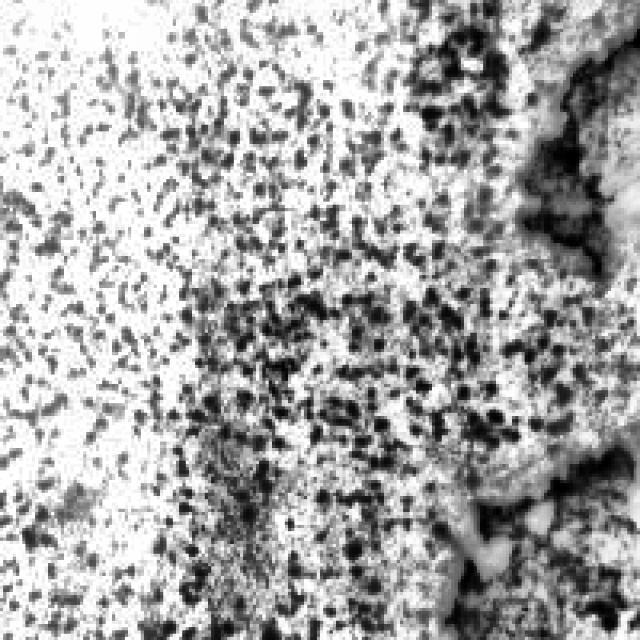Rolled_in_Scale: (0, 35, 493, 637)
Scratches: (426, 432, 636, 637), (512, 22, 634, 276)
